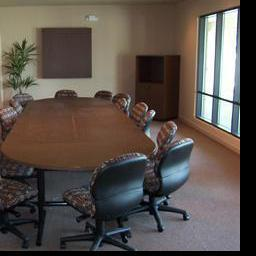Matera: (8, 38, 33, 102)
